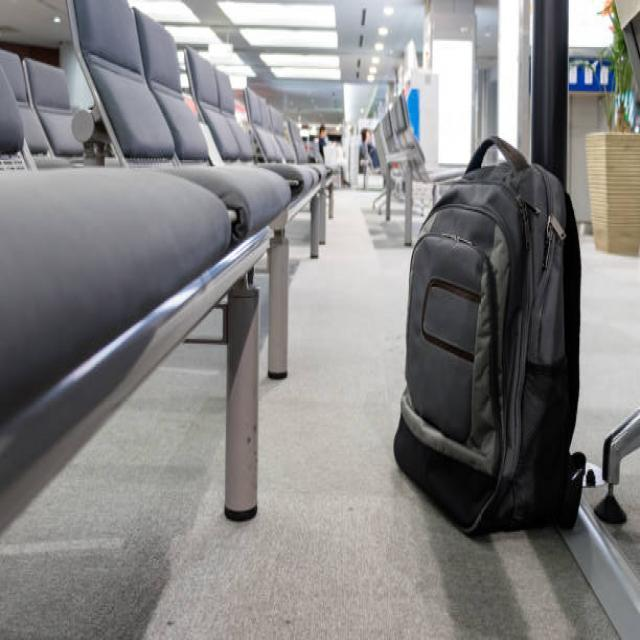Backpacks: (395, 132, 583, 541)
